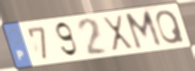2: (76, 17, 111, 59)
7: (25, 25, 48, 62)
9: (53, 21, 79, 59)
M: (123, 9, 165, 53)
Q: (155, 9, 187, 46)
X: (100, 13, 136, 52)
